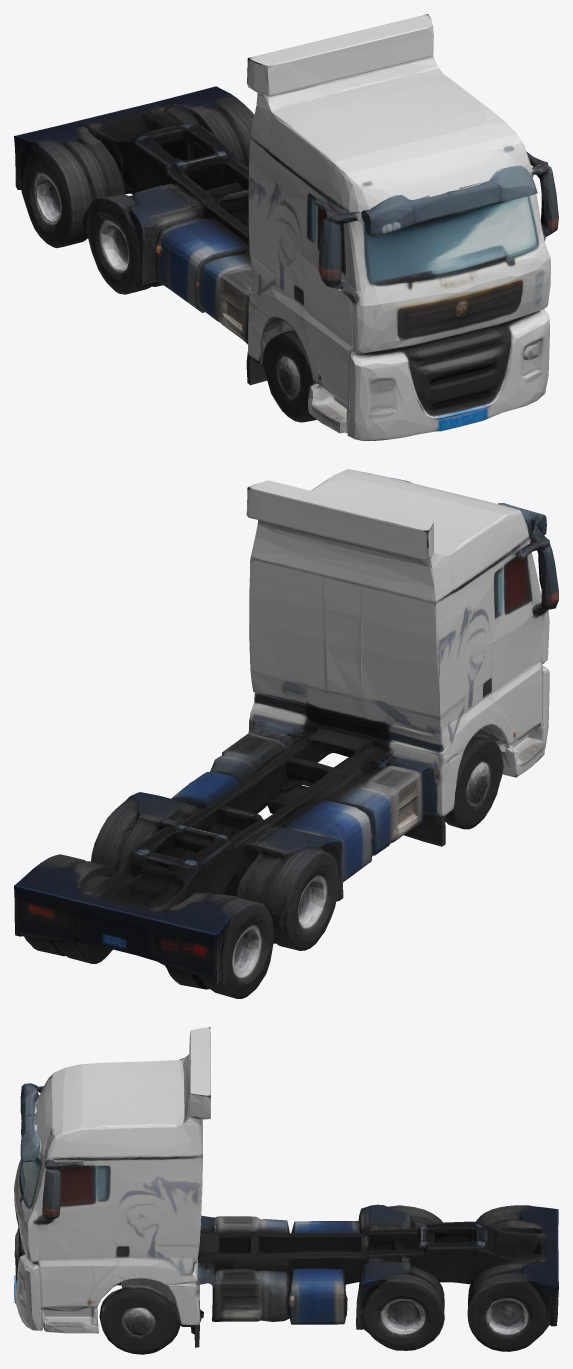
3 views of the same model, one above another, from view 1: azimuth 30°, elevation 25°; view 2: azimuth 150°, elevation 25°; view 3: azimuth 270°, elevation 25° (orthographic). The views are drawn at different scales.
Parts seen in each view (by area): view 1: world; view 2: world; view 3: world.
Boxes of the visible parts, x1=… form: world: x1=14, y1=14, x2=558, y2=440; world: x1=14, y1=469, x2=558, y2=998; world: x1=14, y1=1027, x2=558, y2=1354.
Size of the model in its own units: 0.3929 by 0.5207 by 0.9967.
1 material, 1 textured.
